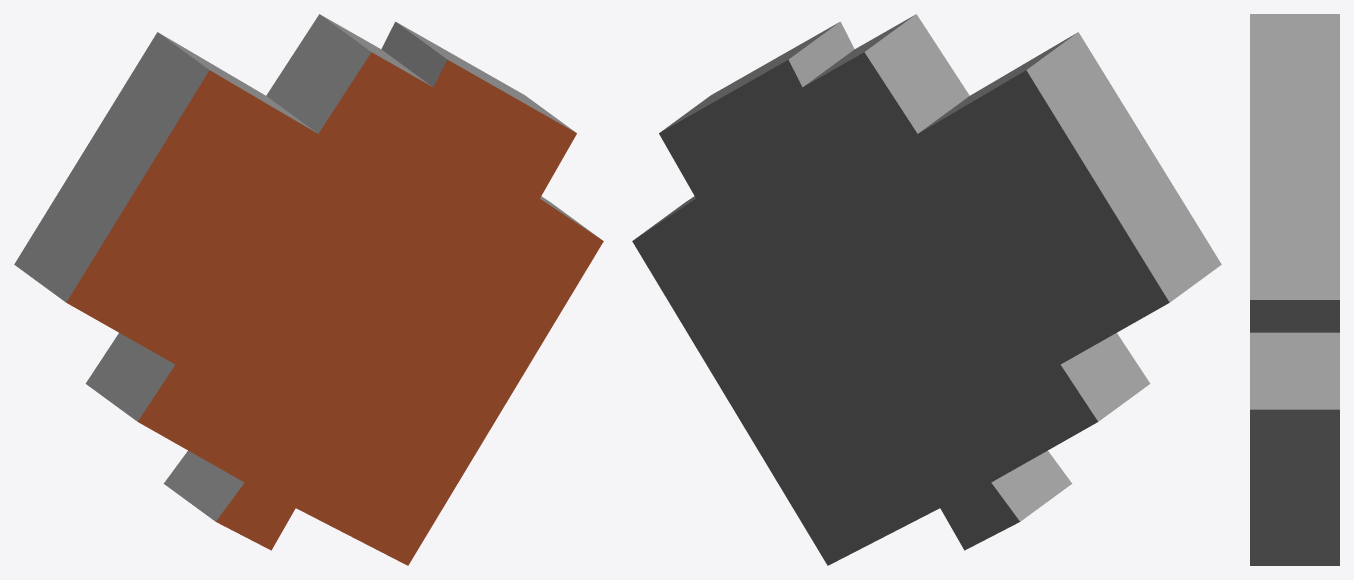
The model's file is construction_0428_assumed_A_Casa_h6m.obj.
3 renders of one model, left to right at view 1: azimuth 30°, elevation 25°; view 2: azimuth 150°, elevation 25°; view 3: azimuth 270°, elevation 25°, orthographic. The views are drawn at different scales.
Visible parts, largest first — view 1: construction_0428_assumed_A_Casa; view 2: construction_0428_assumed_A_Casa; view 3: construction_0428_assumed_A_Casa.
Boxes of the visible parts, x1,y1,x2,y2 form: construction_0428_assumed_A_Casa: [14, 14, 603, 565]; construction_0428_assumed_A_Casa: [632, 14, 1221, 565]; construction_0428_assumed_A_Casa: [1250, 14, 1339, 565].
Size of the model in its own units: 35.73 by 34.57 by 6.
